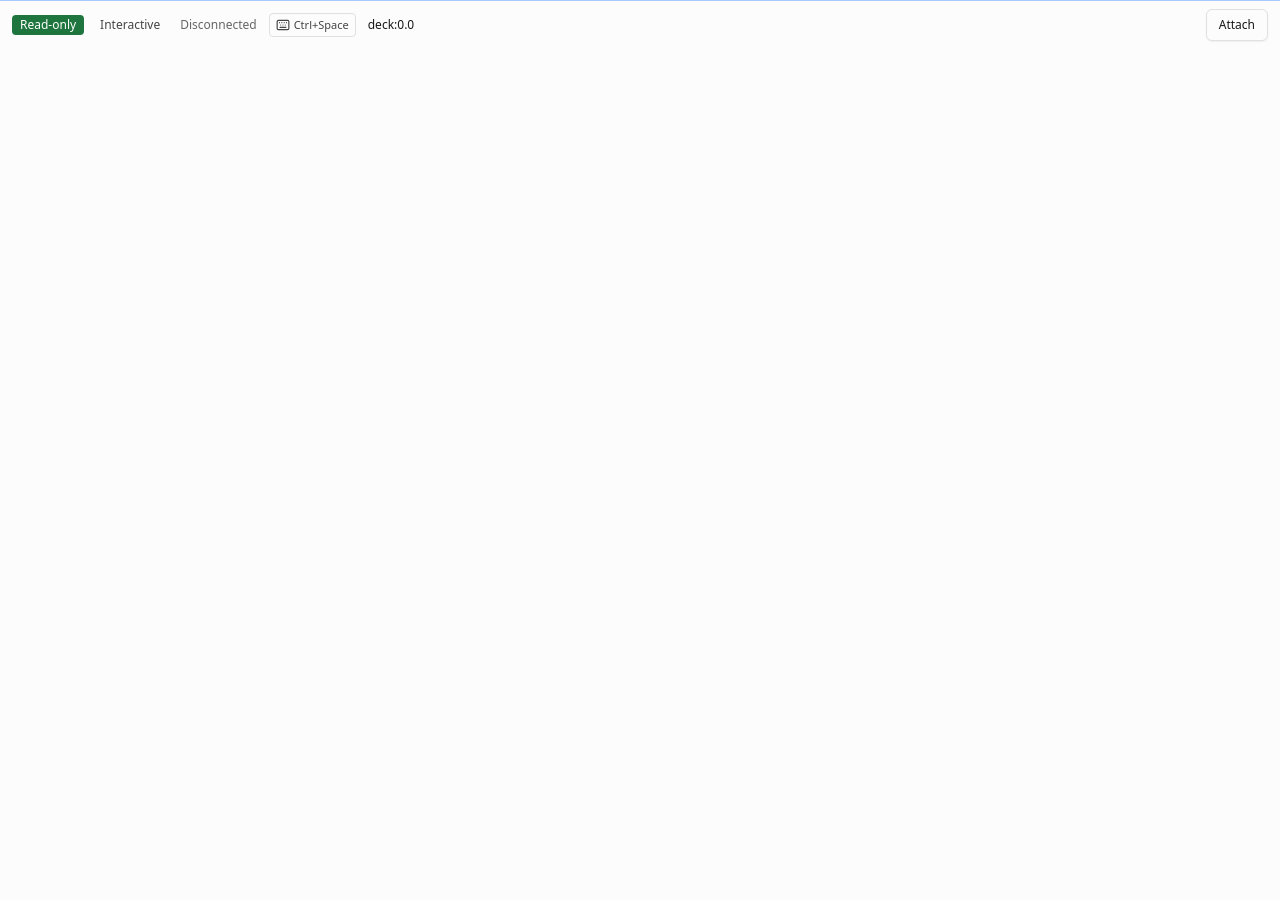
Scenario: interactive terminal entry › clears a rejected stored token and prompts for a replacement
Step 1. Click the button "Interactive" → (130, 25), box [92,15,168,35]
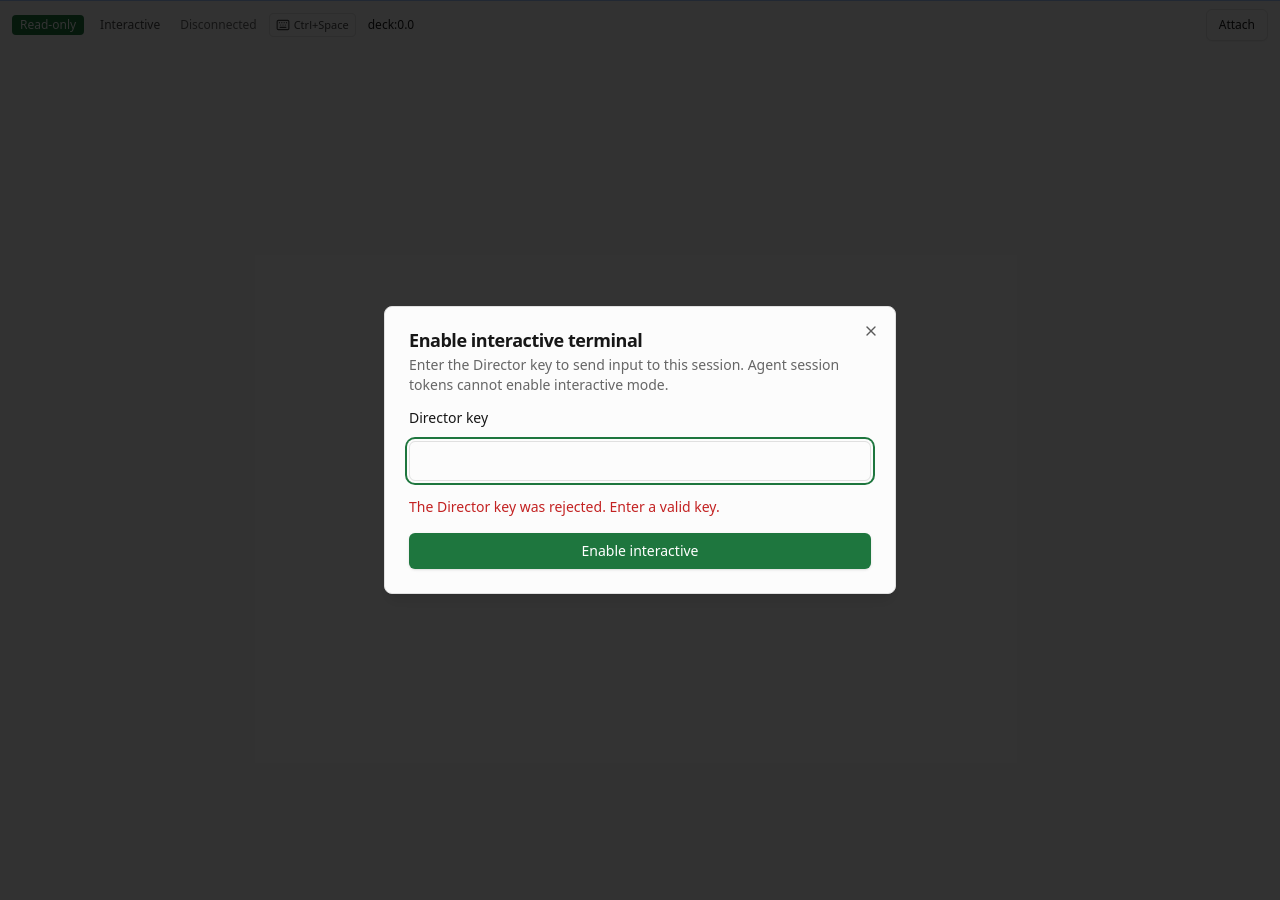
Check: the password field labelled "Director key" is empty, box [409,441,871,481]
Check: the text "The Director key was rejected. Enter a valid key." is shown, box [409,497,720,516]
